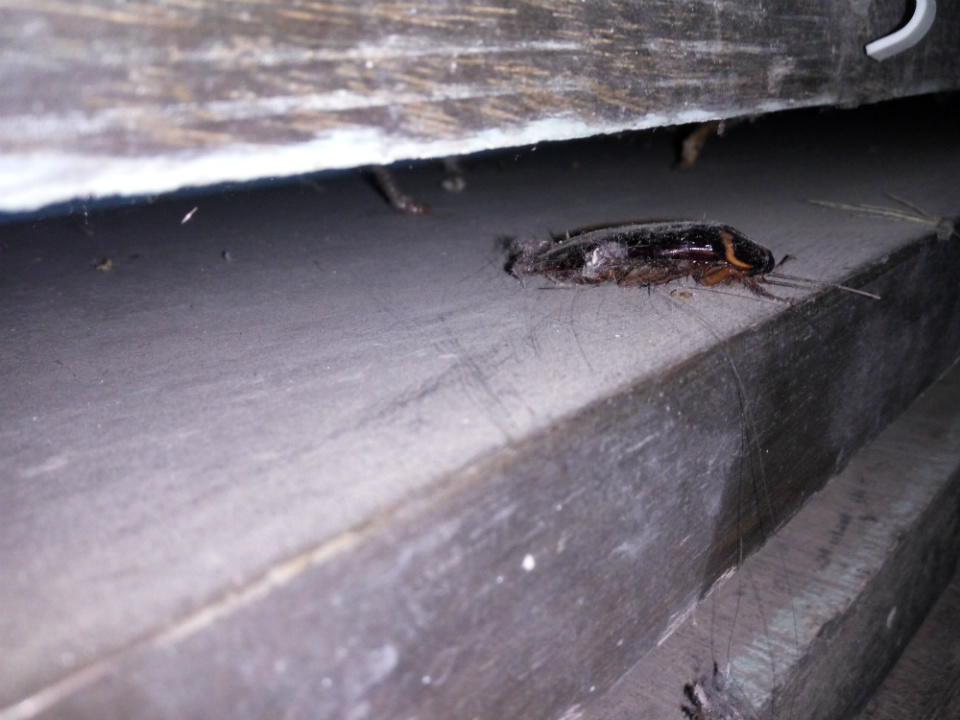cockroach: (479, 178, 879, 333)
